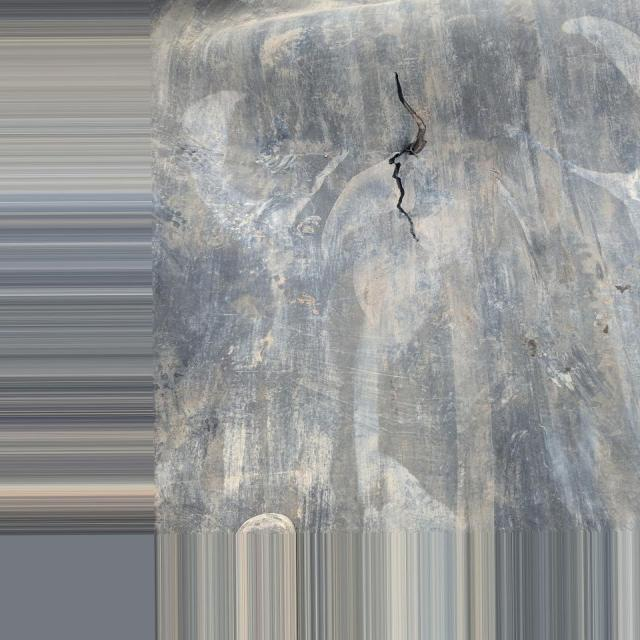Tear: (375, 51, 443, 247)
